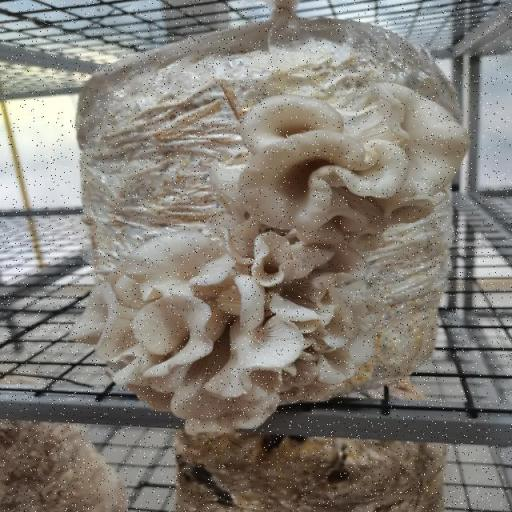White Oyster Mushroom: (53, 220, 340, 438), (201, 87, 473, 275)
